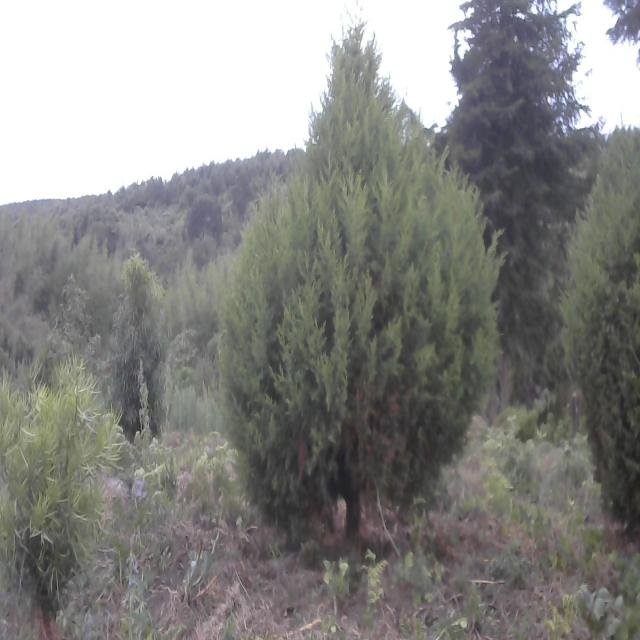Juniperus procesera: (206, 30, 505, 567), (448, 0, 599, 396), (564, 135, 640, 528)
Podocarpus falcatus: (0, 367, 126, 628), (111, 250, 170, 430)
